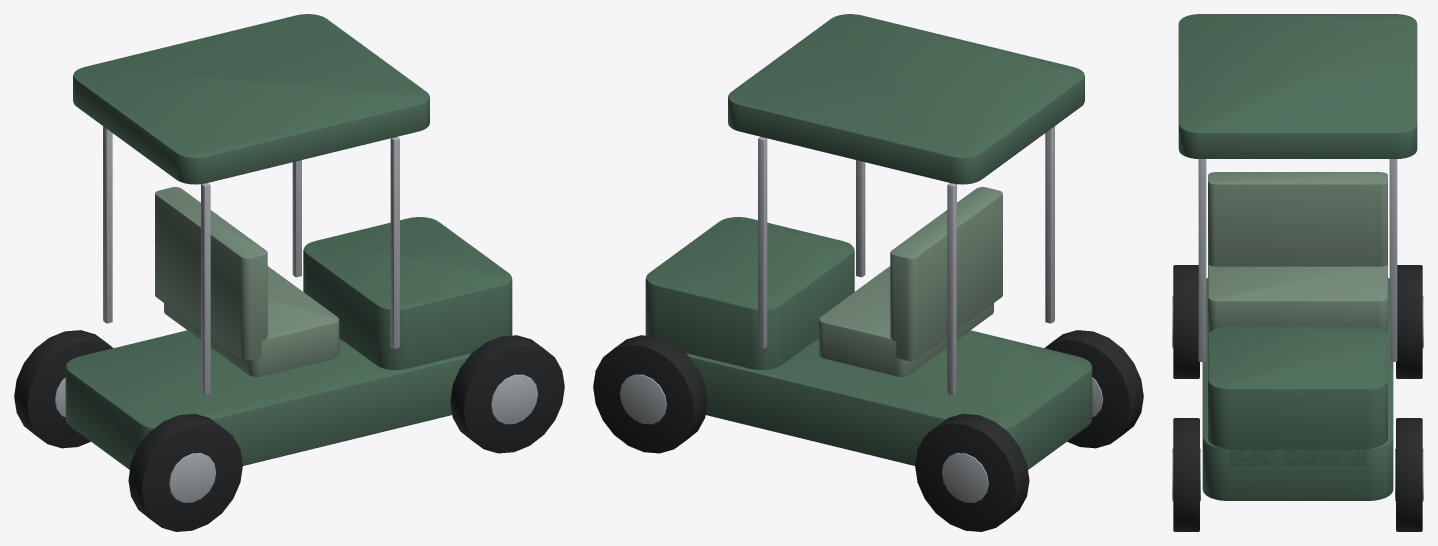
File: golf_cart_public.glb
3 views of the same model, side by side, from view 1: azimuth 30°, elevation 25°; view 2: azimuth 150°, elevation 25°; view 3: azimuth 270°, elevation 25° (orthographic). The views are drawn at different scales.
Visible parts, largest first — view 1: Canopy_Roof, GolfCart_Chassis, GolfCart_Hood, GolfCart_SeatBack_1, CartWheel_Front_L_Tire, CartWheel_Rear_L_Tire, GolfCart_Seat_1, CartWheel_Rear_R_Tire, Canopy_Post_1_1, Canopy_Post_2_1, Canopy_Post_1_2, CartWheel_Front_L_Hub (+2 smaller); view 2: Canopy_Roof, GolfCart_Chassis, GolfCart_Hood, GolfCart_SeatBack_1, CartWheel_Front_R_Tire, CartWheel_Rear_R_Tire, GolfCart_Seat_1, CartWheel_Rear_L_Tire, Canopy_Post_1_2, Canopy_Post_2_2, Canopy_Post_1_1, CartWheel_Front_R_Hub (+2 smaller); view 3: Canopy_Roof, GolfCart_Hood, GolfCart_SeatBack_1, GolfCart_Chassis, GolfCart_Seat_1, CartWheel_Front_L_Tire, CartWheel_Front_R_Tire, CartWheel_Rear_L_Tire, CartWheel_Rear_R_Tire, Canopy_Post_2_1, Canopy_Post_2_2.
Part boxes in pixels (left/top/right/bottom): Canopy_Roof: left=73, top=14, right=429, bottom=184; GolfCart_Chassis: left=65, top=330, right=471, bottom=469; GolfCart_Hood: left=303, top=217, right=512, bottom=369; GolfCart_SeatBack_1: left=155, top=187, right=267, bottom=360; CartWheel_Front_L_Tire: left=450, top=335, right=564, bottom=453; CartWheel_Rear_L_Tire: left=128, top=414, right=242, bottom=531; GolfCart_Seat_1: left=164, top=266, right=339, bottom=376; CartWheel_Rear_R_Tire: left=14, top=330, right=113, bottom=448; Canopy_Post_1_1: left=201, top=183, right=210, bottom=395; Canopy_Post_2_1: left=390, top=136, right=399, bottom=348; Canopy_Post_1_2: left=103, top=126, right=112, bottom=323; CartWheel_Front_L_Hub: left=491, top=374, right=537, bottom=424; Canopy_Roof: left=728, top=14, right=1084, bottom=184; GolfCart_Chassis: left=686, top=330, right=1092, bottom=469; GolfCart_Hood: left=645, top=217, right=854, bottom=369; GolfCart_SeatBack_1: left=890, top=187, right=1002, bottom=360; CartWheel_Front_R_Tire: left=593, top=335, right=707, bottom=453; CartWheel_Rear_R_Tire: left=915, top=414, right=1029, bottom=531; GolfCart_Seat_1: left=818, top=266, right=993, bottom=376; CartWheel_Rear_L_Tire: left=1044, top=330, right=1143, bottom=448; Canopy_Post_1_2: left=947, top=183, right=956, bottom=395; Canopy_Post_2_2: left=758, top=136, right=767, bottom=348; Canopy_Post_1_1: left=1045, top=126, right=1054, bottom=323; CartWheel_Front_R_Hub: left=620, top=374, right=666, bottom=424; Canopy_Roof: left=1178, top=14, right=1417, bottom=158; GolfCart_Hood: left=1208, top=326, right=1387, bottom=465; GolfCart_SeatBack_1: left=1208, top=172, right=1387, bottom=266; GolfCart_Chassis: left=1202, top=278, right=1393, bottom=500; GolfCart_Seat_1: left=1208, top=264, right=1387, bottom=333; CartWheel_Front_L_Tire: left=1173, top=418, right=1199, bottom=531; CartWheel_Front_R_Tire: left=1396, top=418, right=1422, bottom=531; CartWheel_Rear_L_Tire: left=1173, top=265, right=1199, bottom=378; CartWheel_Rear_R_Tire: left=1396, top=265, right=1422, bottom=378; Canopy_Post_2_1: left=1198, top=159, right=1206, bottom=361; Canopy_Post_2_2: left=1389, top=159, right=1397, bottom=361.
Size of what is drawn, in the model's own units: 2.19 by 1.82 by 1.16.
